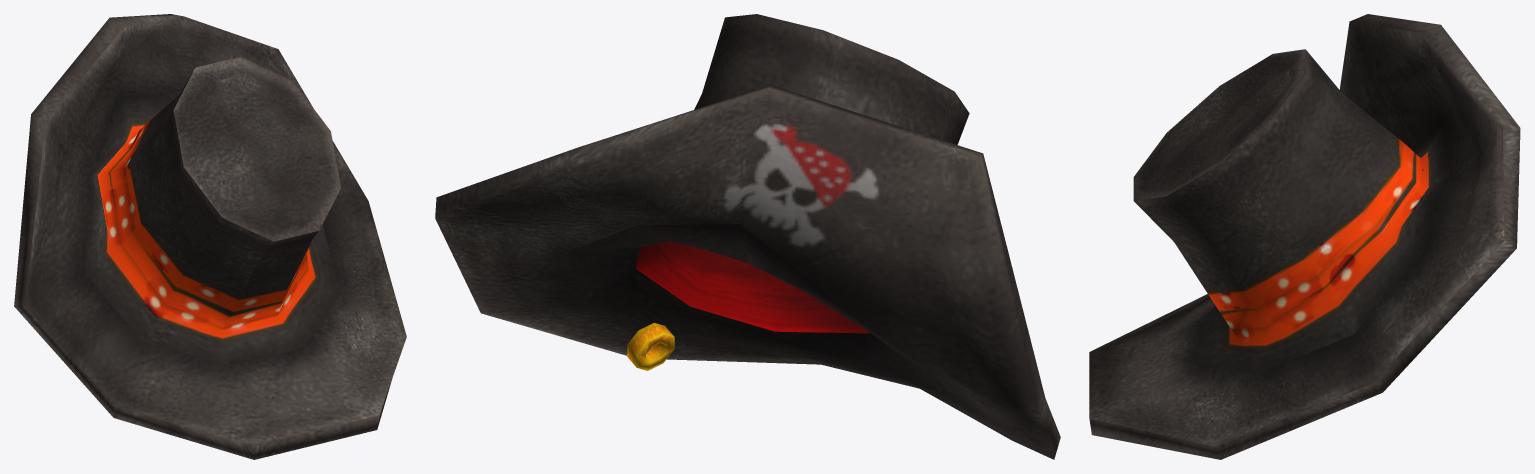
File: hat03.FBX
3 views of the same model, side by side, from view 1: azimuth 30°, elevation 25°; view 2: azimuth 150°, elevation 25°; view 3: azimuth 270°, elevation 25° (orthographic). The views are drawn at different scales.
Parts seen in each view (by area): view 1: hat03; view 2: hat03; view 3: hat03.
Part boxes in pixels (x1=…): hat03: x1=14, y1=14, x2=406, y2=459; hat03: x1=435, y1=14, x2=1060, y2=459; hat03: x1=1089, y1=14, x2=1520, y2=459.
Size of the model in its own units: 0.5716 by 0.529 by 0.4773.
